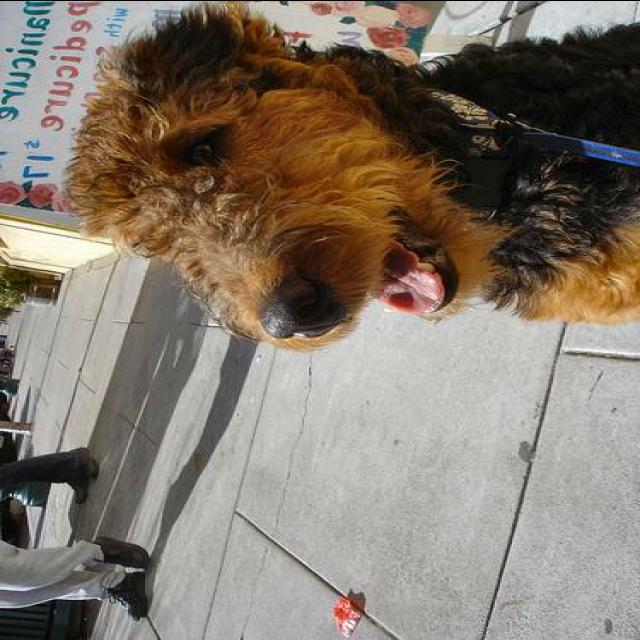airedale: (58, 0, 638, 357)
